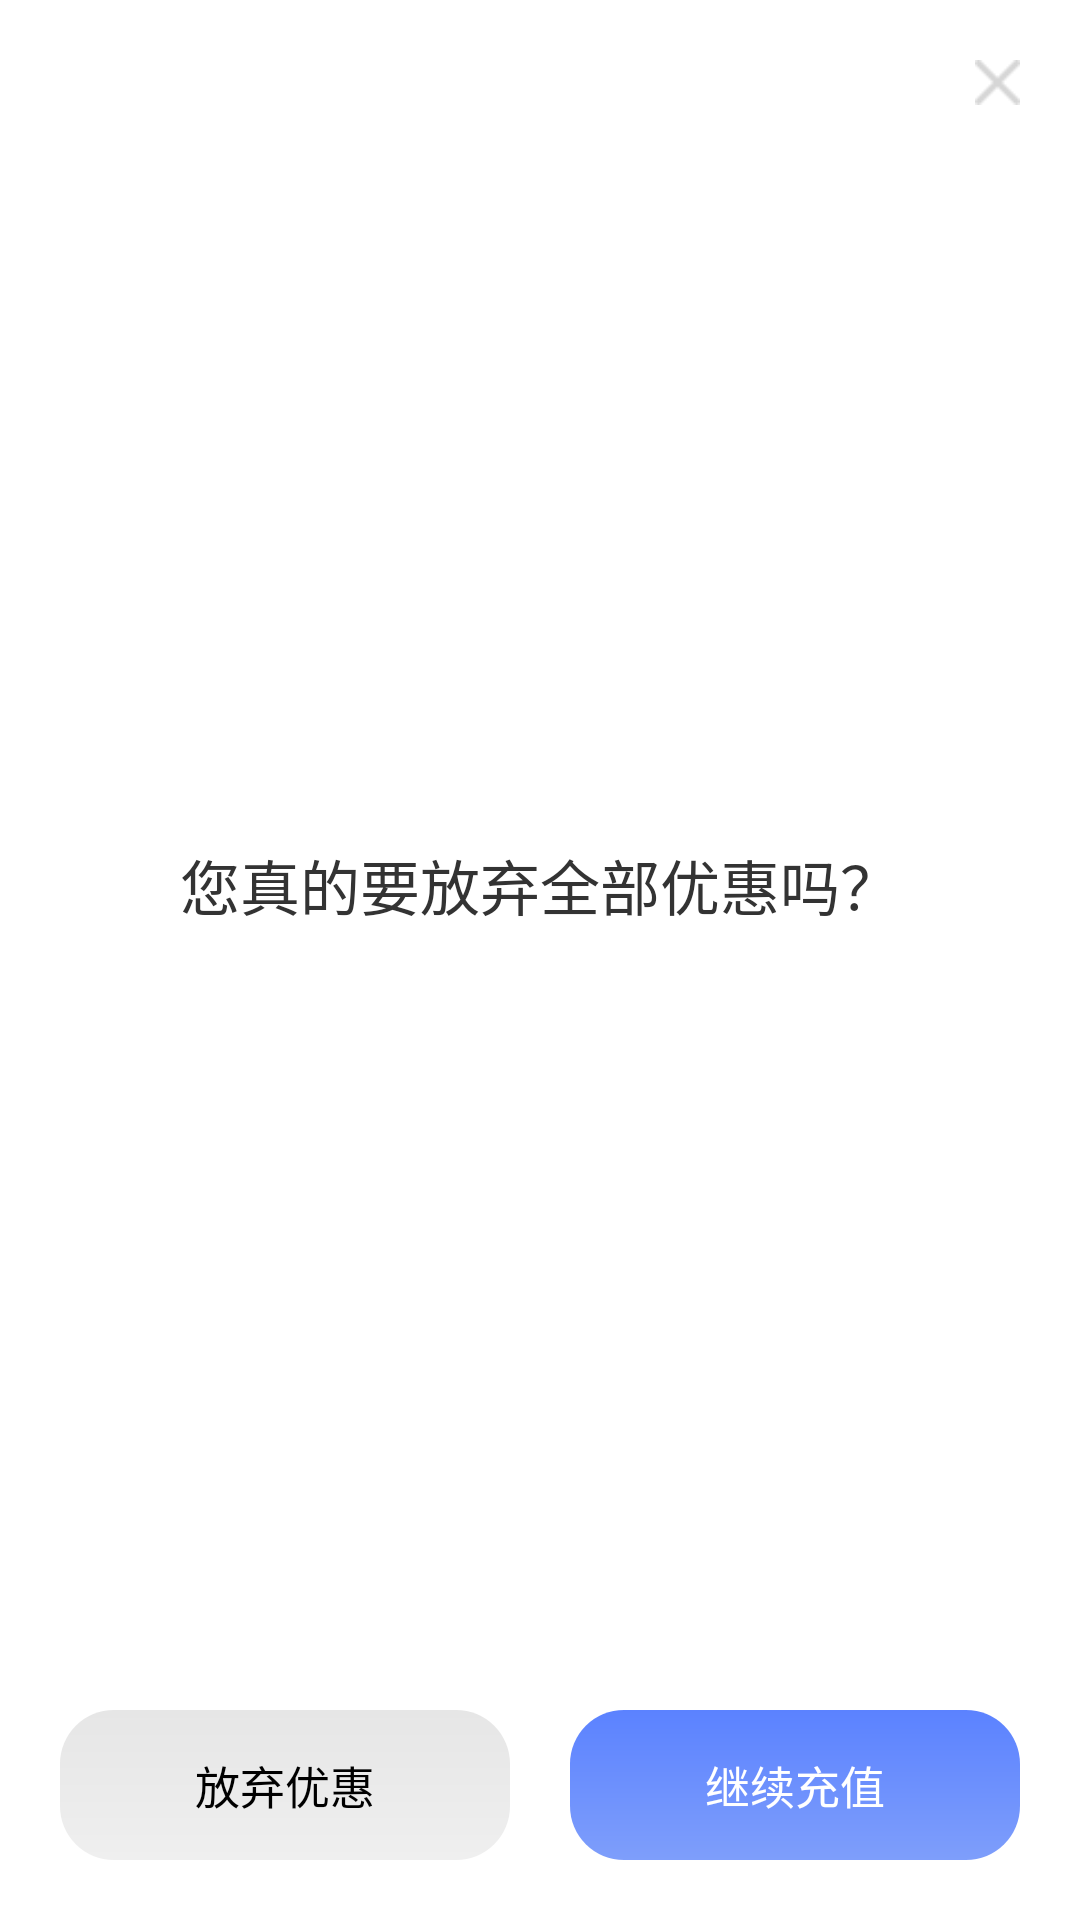

Icons on this 1080w x 1920h Android screen, each with its box as (x1, y1, x2, y2):
close: (975, 60, 1020, 105)
